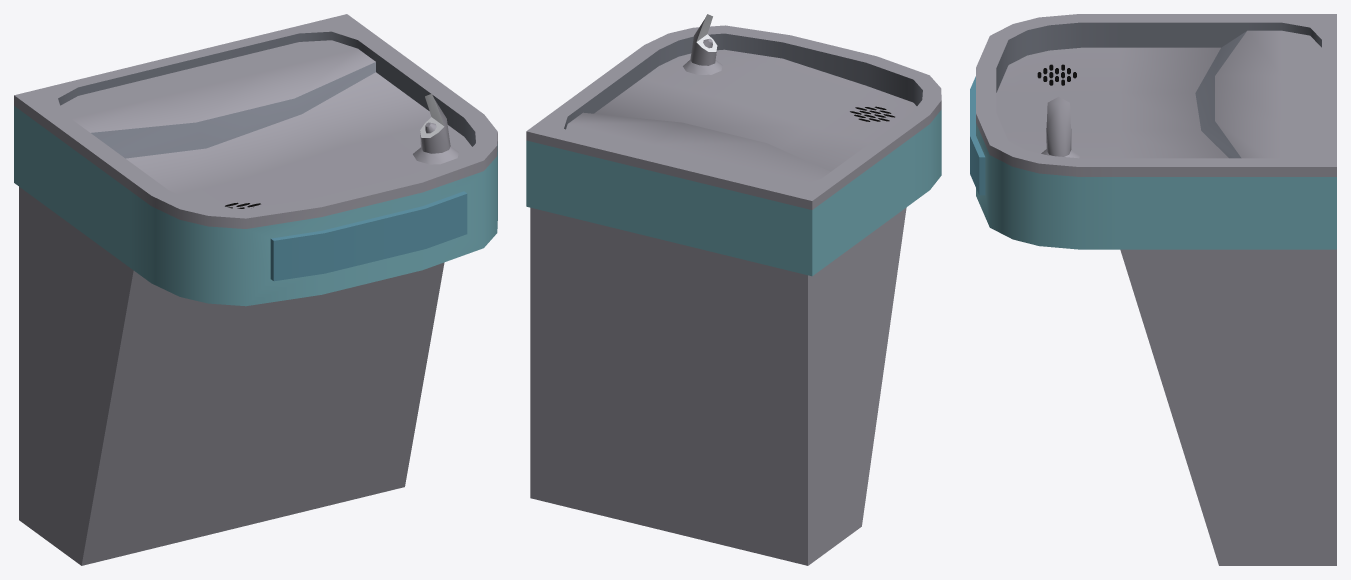
Rendered from Water_Fountain.fbx.
3 renders of one model, left to right at view 1: azimuth 30°, elevation 25°; view 2: azimuth 150°, elevation 25°; view 3: azimuth 270°, elevation 25°, orthographic. The views are drawn at different scales.
Parts seen in each view (by area): view 1: drimking fountain; view 2: drimking fountain; view 3: drimking fountain.
Boxes of the visible parts, box(x1,y1,x2,y2) form: drimking fountain: box(14, 14, 497, 565); drimking fountain: box(526, 14, 941, 565); drimking fountain: box(970, 14, 1336, 565).
Bounding box in the file's own units: 62.78 × 84.65 × 63.63.
Materials: 1 (1 with a texture image).
